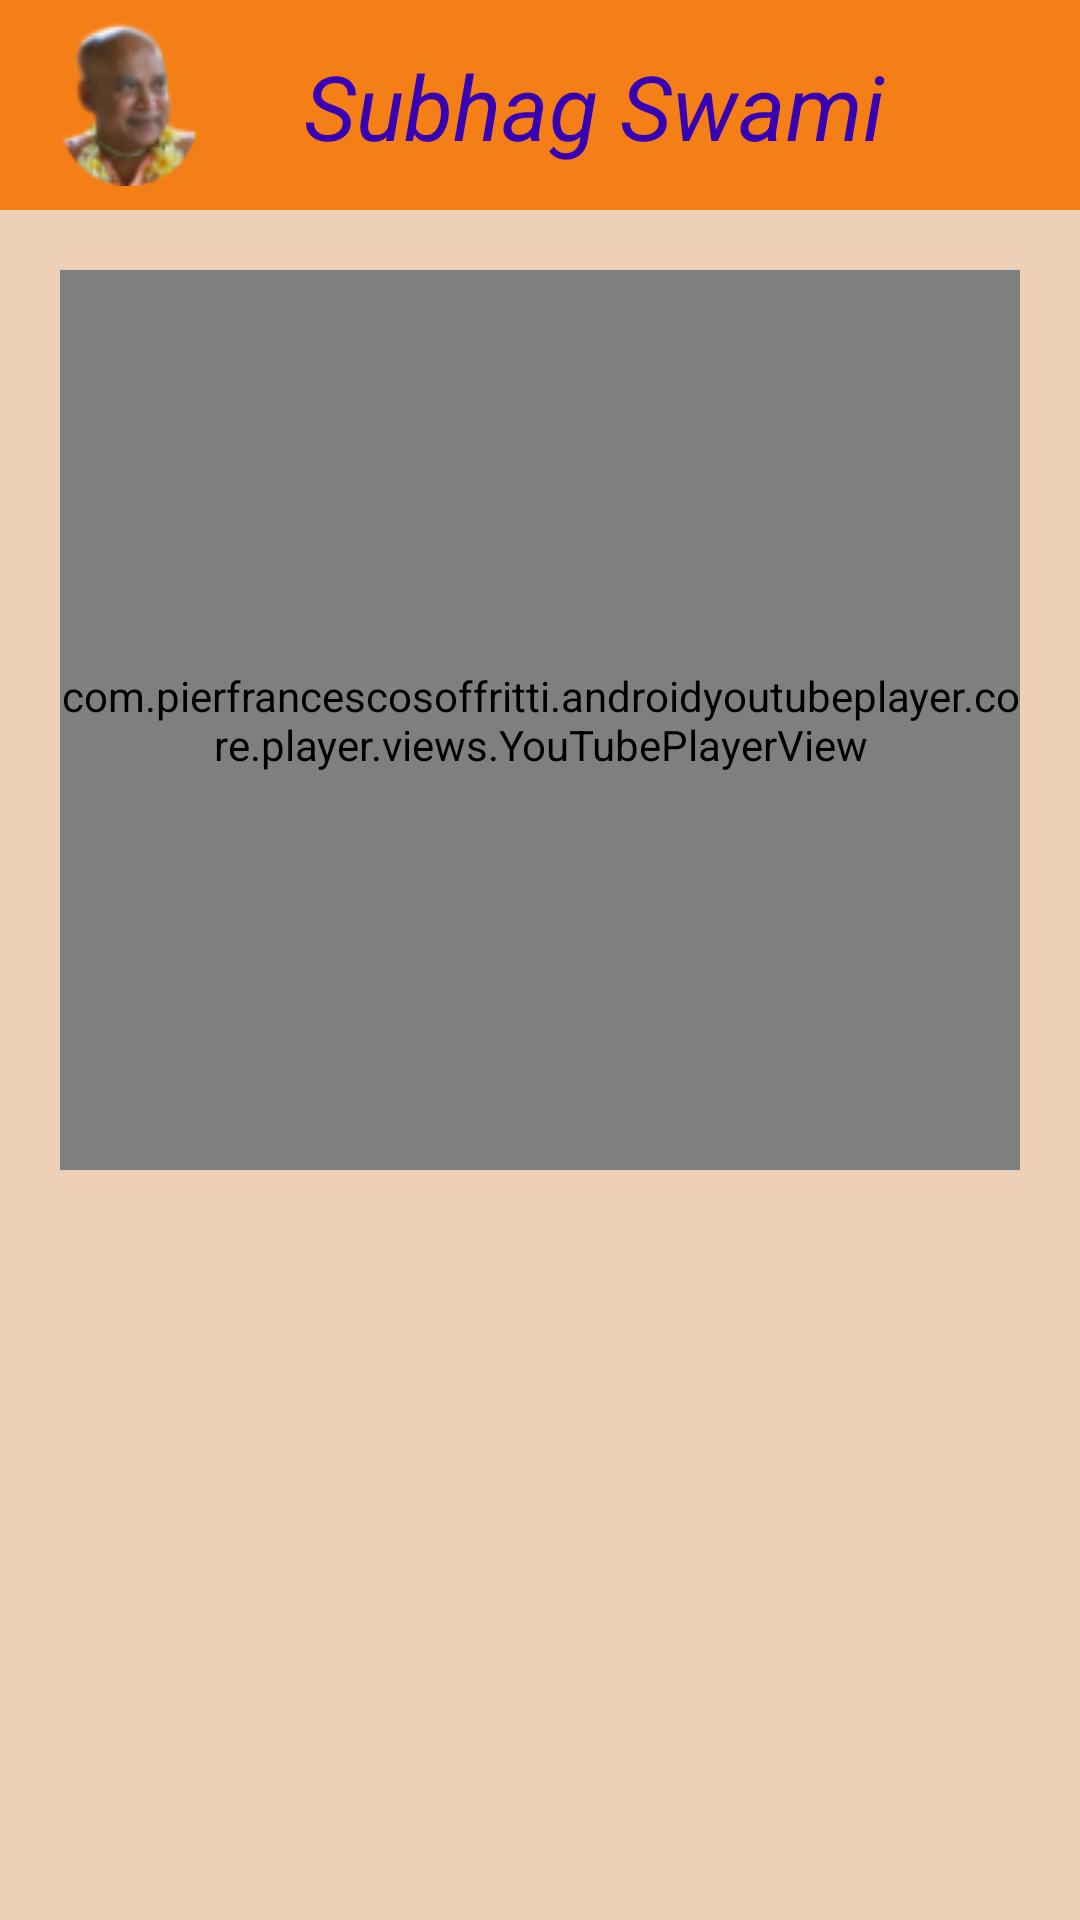

Icon click points for this 1080px×1920px phone screenshot, format [x,y]:
smallphoto: [129,105]
